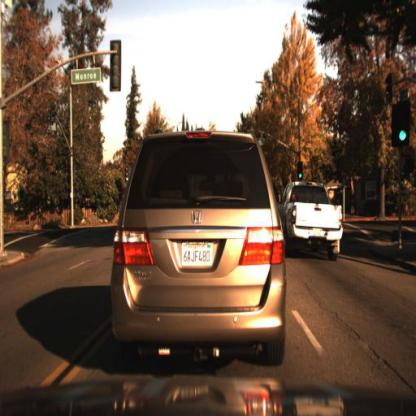car: (107, 112, 292, 376), (280, 180, 344, 263)
trafficLight-Green: (393, 97, 412, 150), (298, 158, 307, 183)
trafficLight-GreenLeft: (124, 165, 132, 188)
